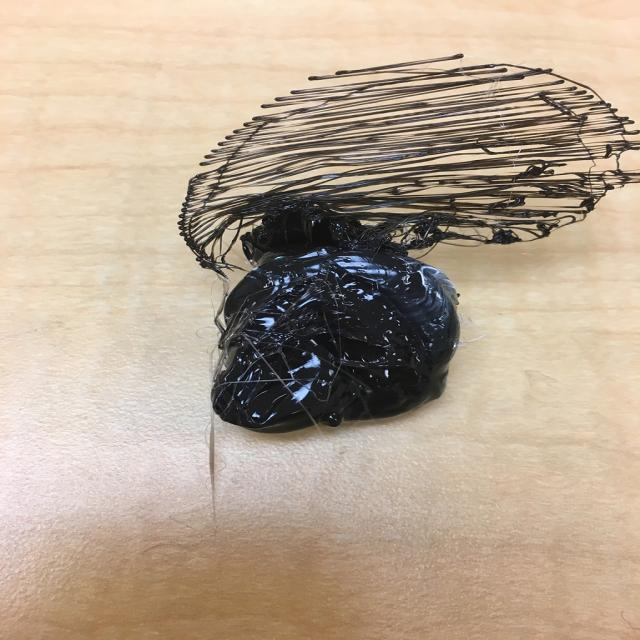Stringing: (171, 40, 640, 276)
